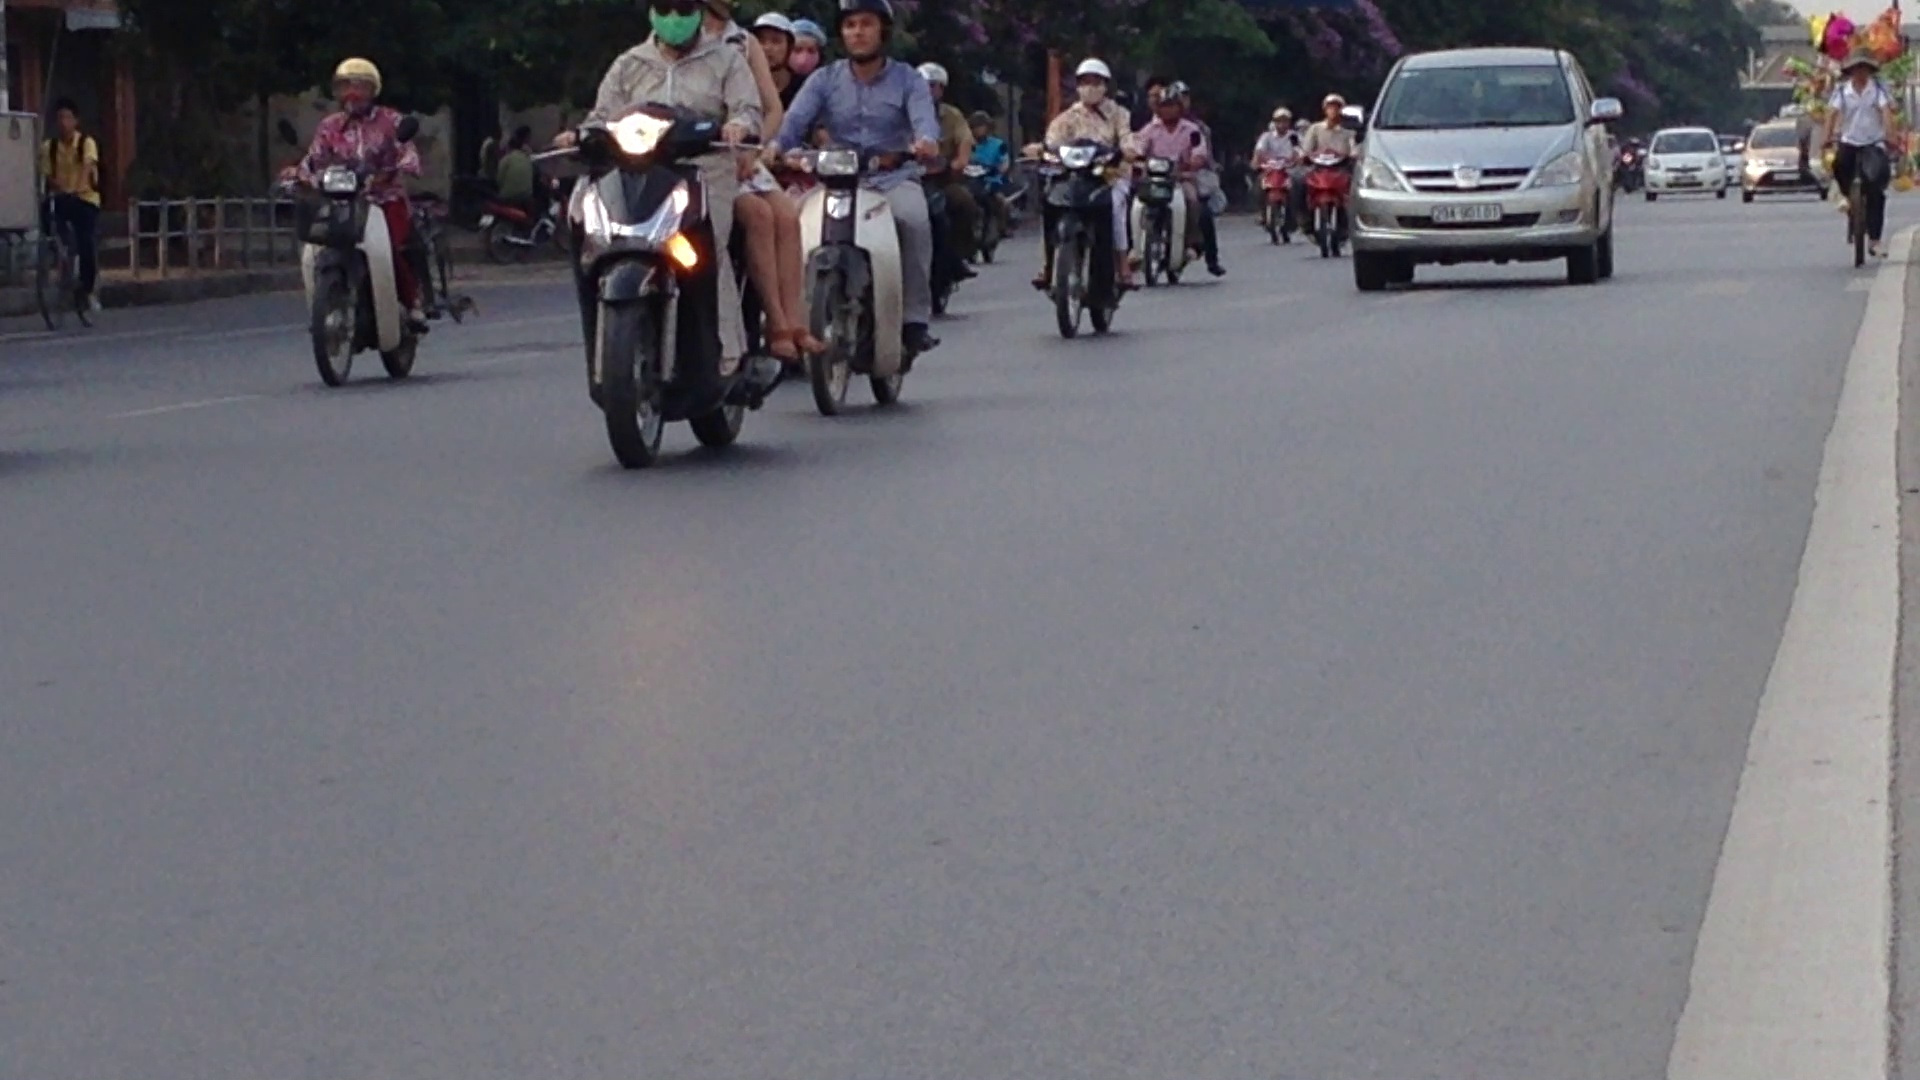vehicle-plate: (1423, 199, 1509, 224)
